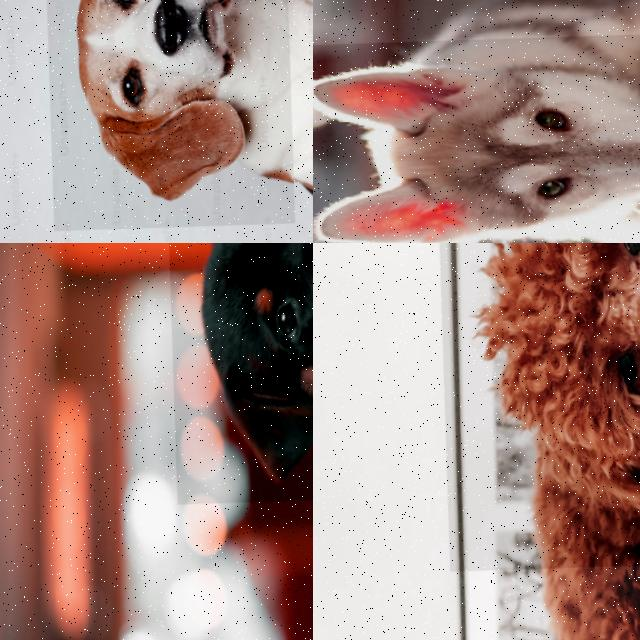beagle: (32, 0, 308, 236)
husky: (313, 13, 640, 243)
poodle: (420, 243, 640, 579)
rottweiler: (154, 243, 313, 509)
